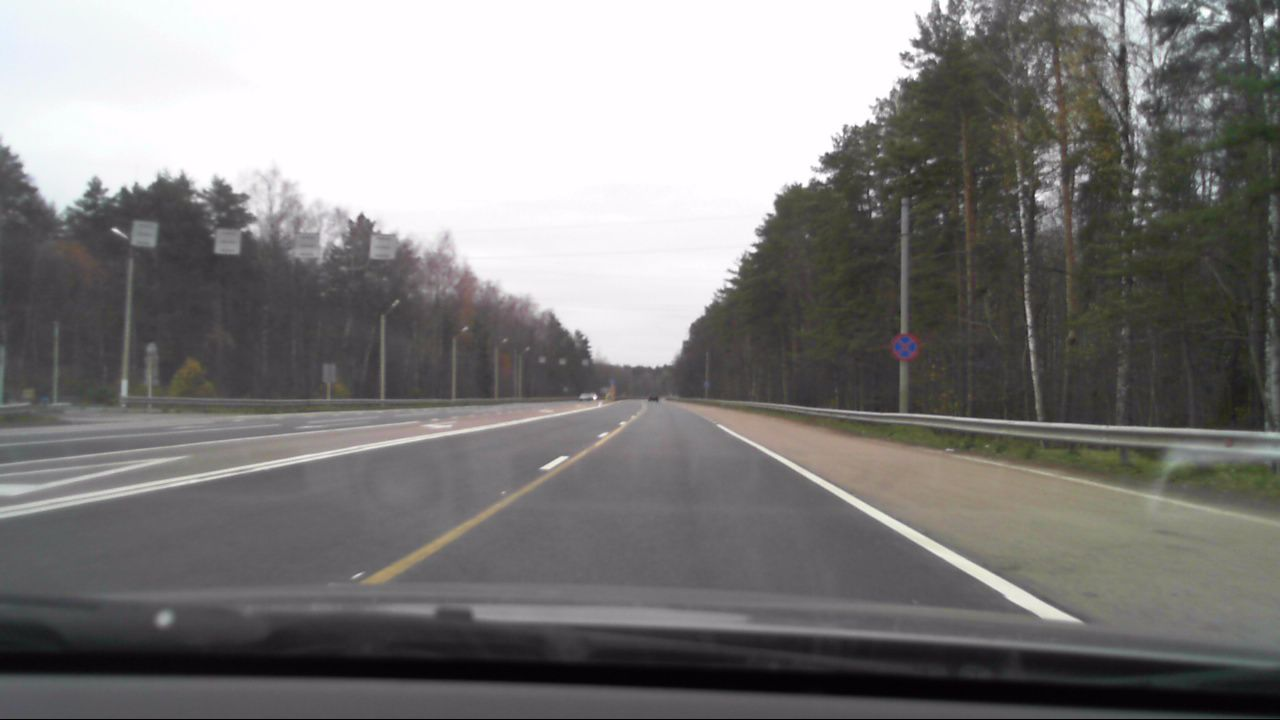No Parking: (892, 332, 919, 360)
